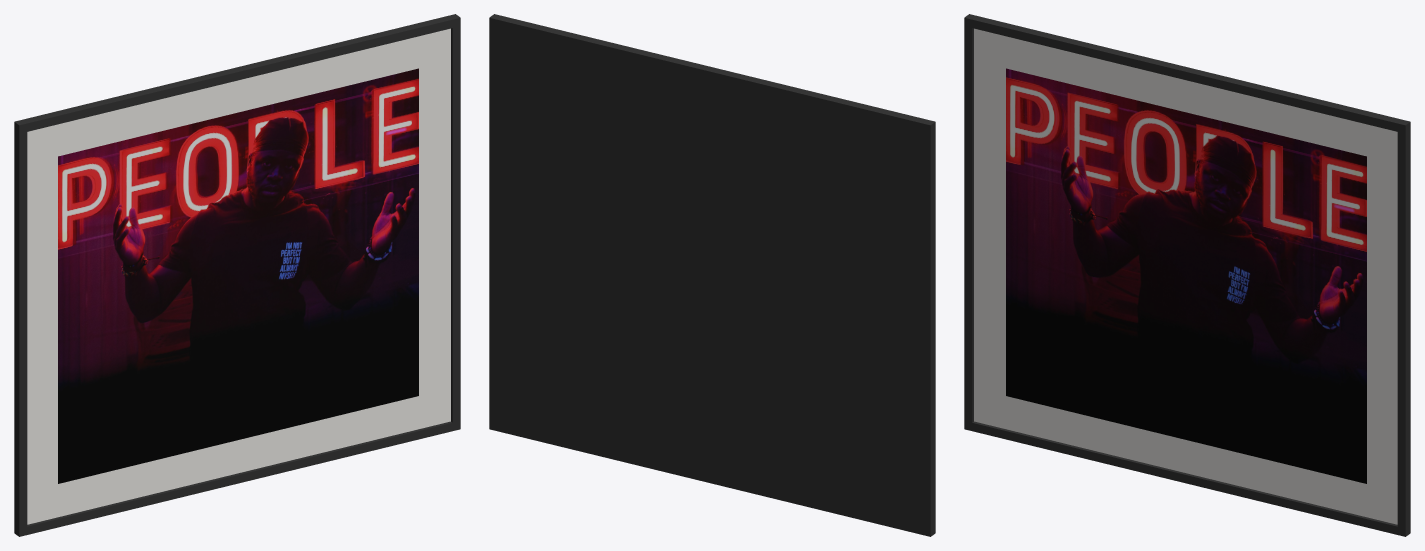
File: people-90.gltf
3 renders of one model, left to right at view 1: azimuth 30°, elevation 25°; view 2: azimuth 150°, elevation 25°; view 3: azimuth 330°, elevation 25°, orthographic.
Visible parts, largest first — view 1: tavla; view 2: tavla; view 3: tavla.
Boxes of the visible parts, left/top/right/bottom form: tavla: left=14, top=14, right=460, bottom=536; tavla: left=489, top=14, right=935, bottom=536; tavla: left=964, top=14, right=1410, bottom=536.
Size of the model in its own units: 1.1 by 0.98 by 0.022.
Materials: 3 (1 with a texture image).
